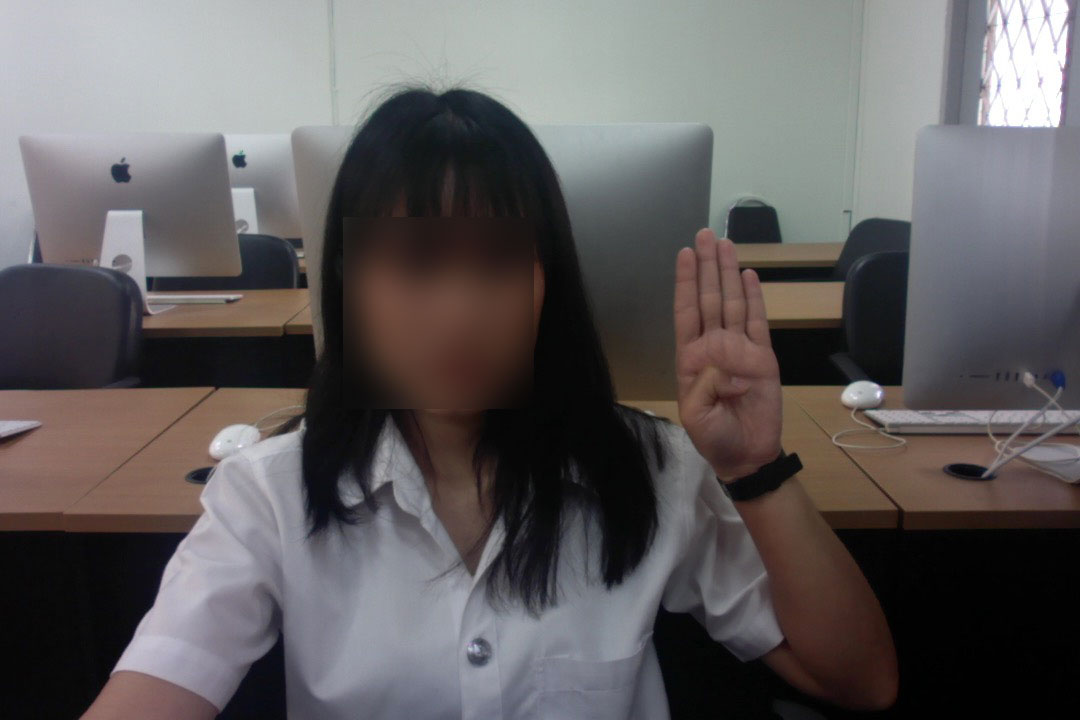bor: (661, 222, 790, 485)
